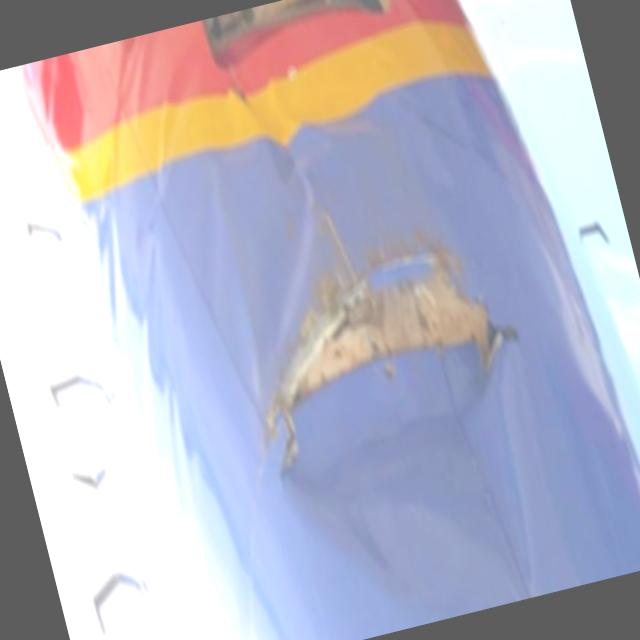crack: (217, 220, 538, 502)
